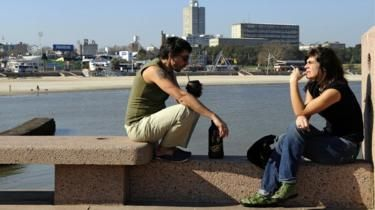mate: (185, 79, 204, 99)
